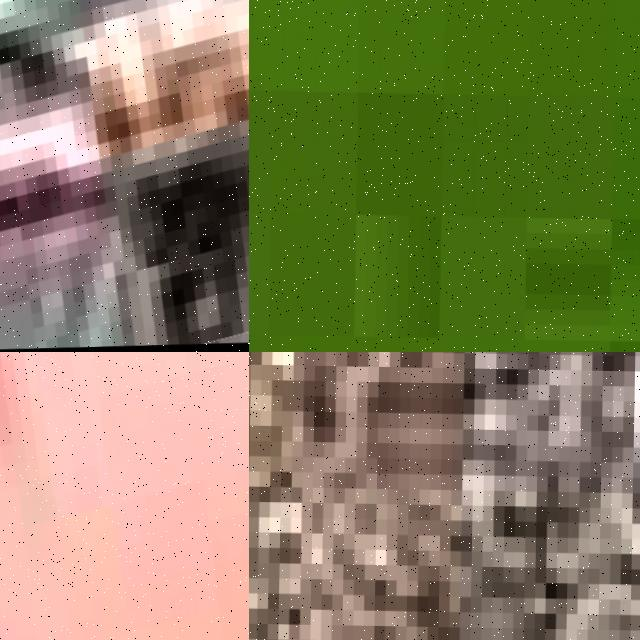0: (0, 0, 249, 352)
drone: (0, 352, 249, 640)
